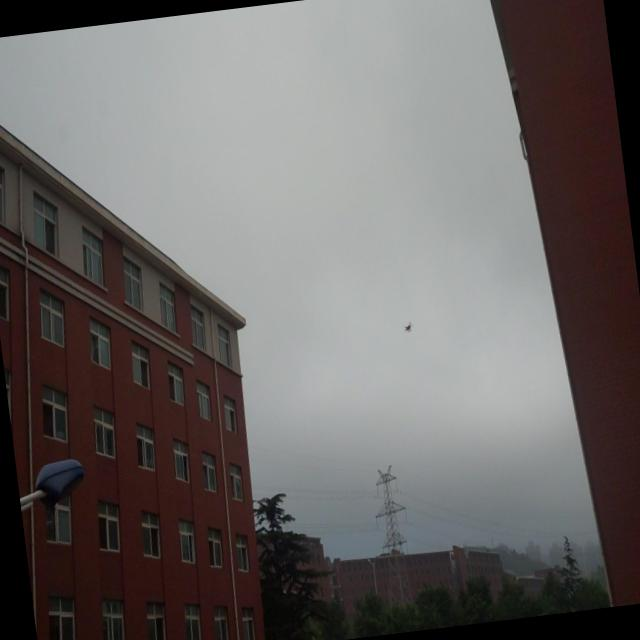drone: (400, 316, 416, 338)
